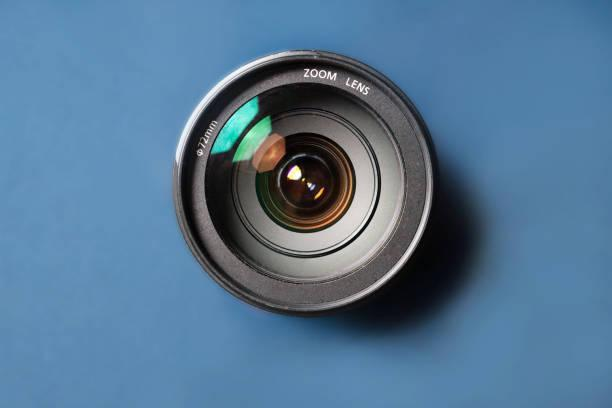camera: (160, 30, 454, 330)
